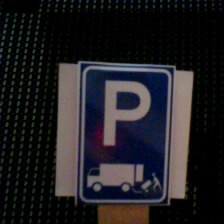load: (67, 57, 185, 206)
